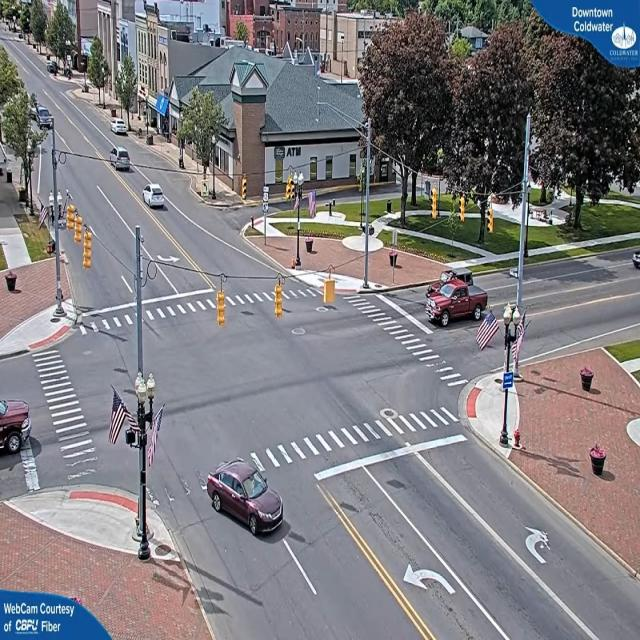car: (206, 459, 285, 535), (144, 184, 166, 210), (113, 150, 134, 172), (112, 120, 129, 136), (631, 250, 639, 271)
truck: (424, 274, 490, 328), (0, 395, 31, 459)
